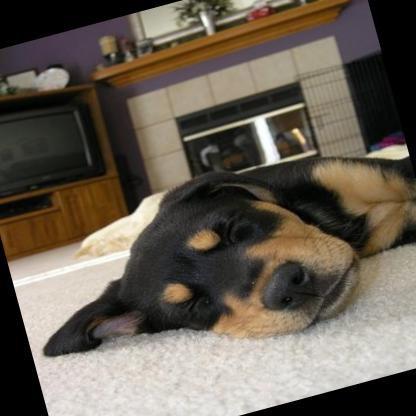Rottweiler: (1, 112, 416, 398)
